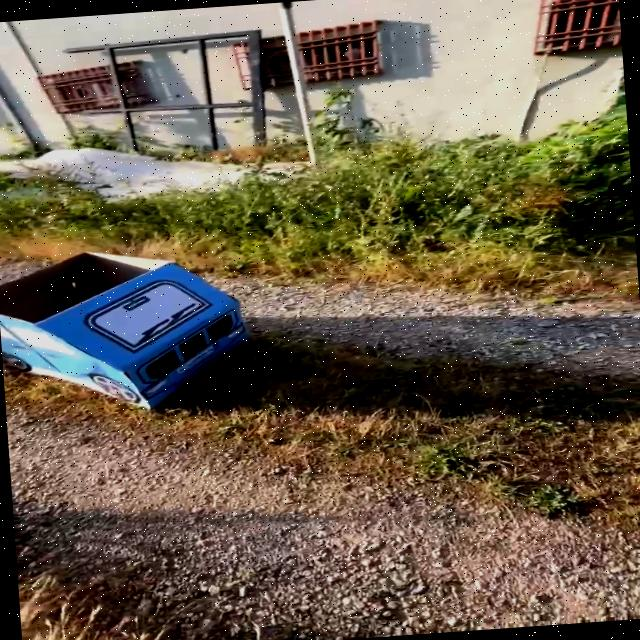blue_car: (0, 219, 331, 448)
